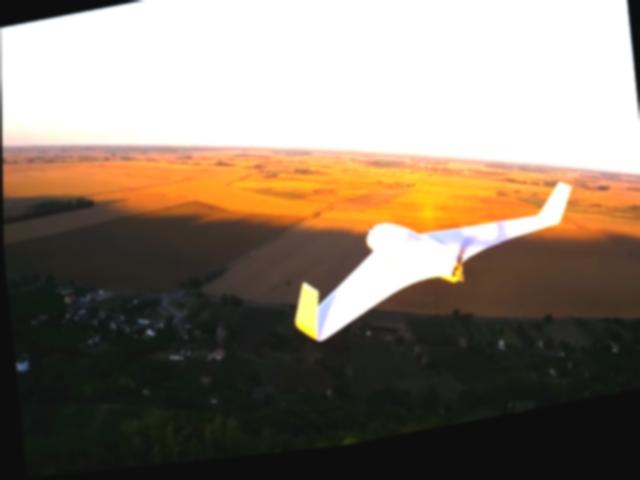plane: (282, 190, 581, 352)
